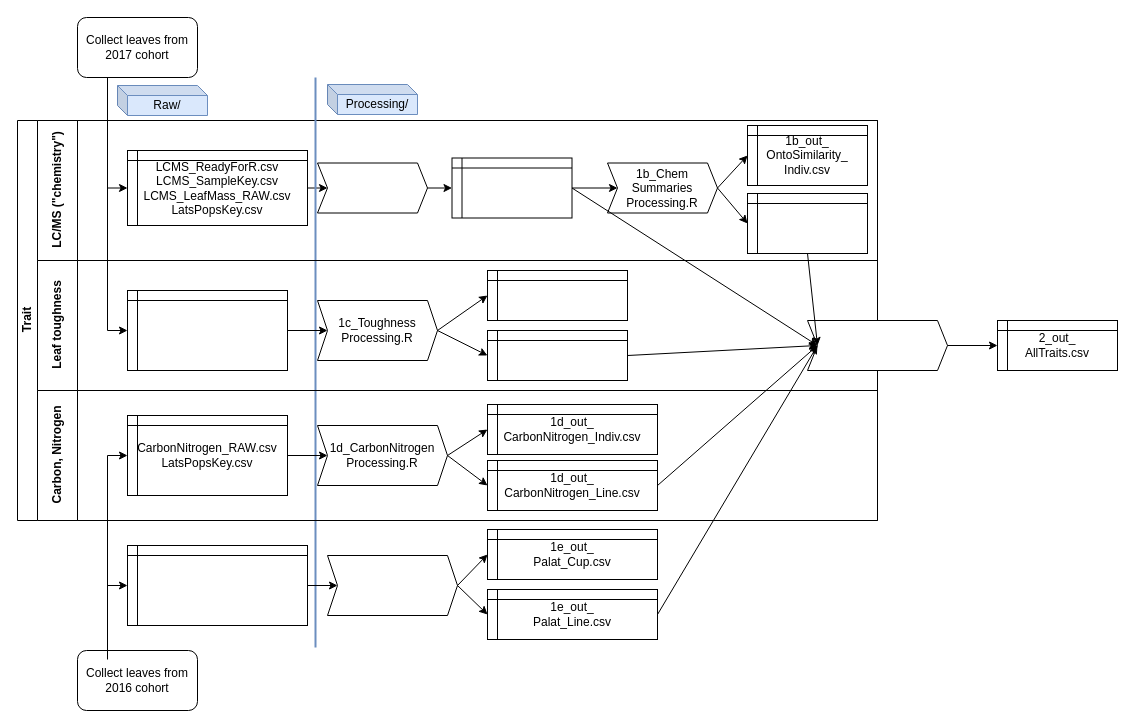
The diagram is 1135 pixels wide and 728 high, and some of its shapes have lost their labels. The centre of each missing label's shape, as x and y in pixels:
"1a_LCMS Processing.R" goes at pixel 372 187.
"1a_out_ LCMS_Indiv.csv" goes at pixel 511 187.
"1b_out_ ChemSummaries_ Indiv.csv" goes at pixel 807 223.
"1c_out_ Toughness_Indiv.csv" goes at pixel 557 295.
"1c_out_ Toughness_Line.csv" goes at pixel 557 355.
"1e_ PalatProcessing.R" goes at pixel 392 585.
"2_AllTraitsCombine _Line.R" goes at pixel 877 345.
"PalatabilitySurvArea_RAW.csv PalatabilityBiomass_RAW.csv LatsPopsKey.csv" goes at pixel 217 585.
"ToughnessAge_RAW.csv LatsPopsKey.csv" goes at pixel 207 330.
